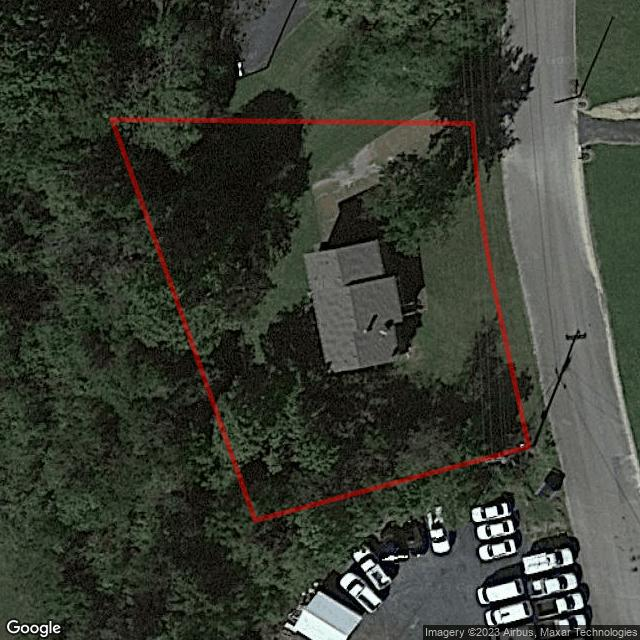Driveway: (312, 126, 465, 249)
House: (304, 240, 404, 375)
